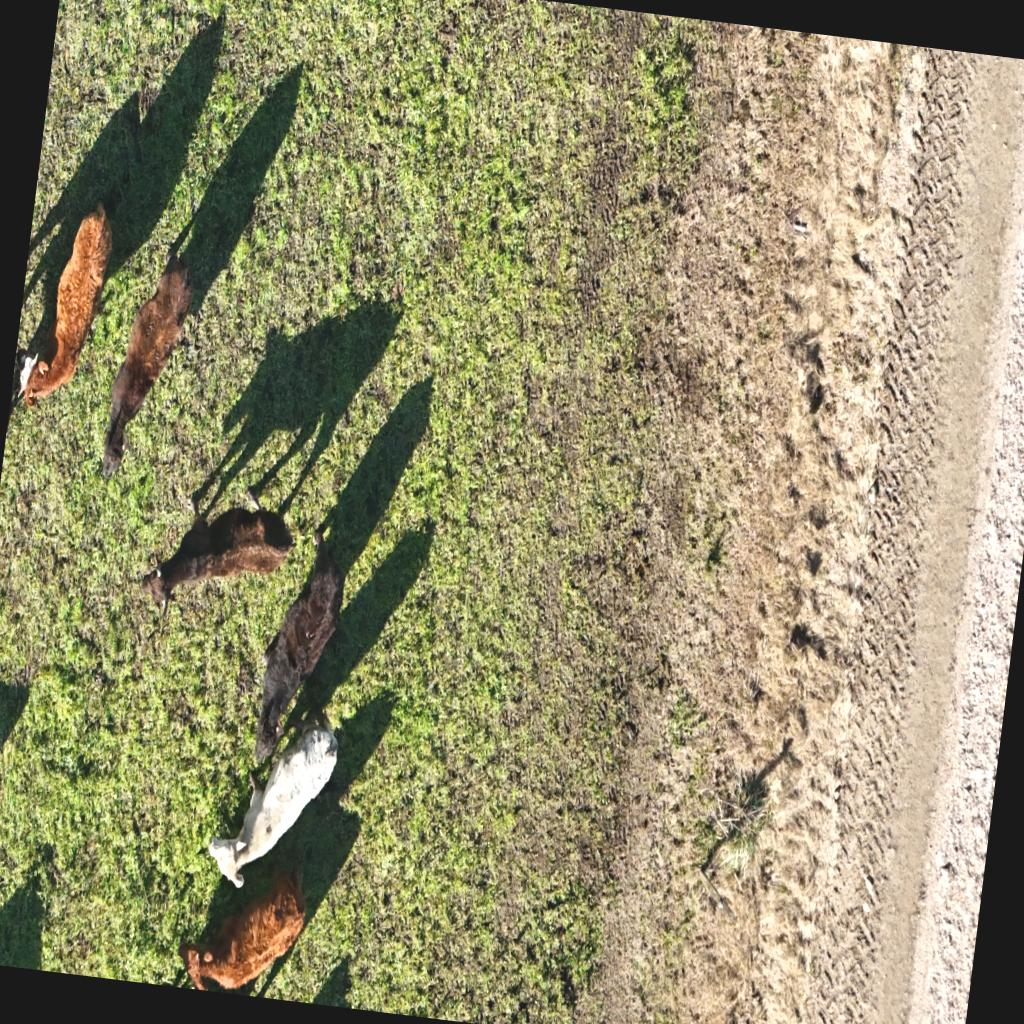cow: (202, 713, 341, 898), (94, 250, 198, 490), (9, 197, 116, 429), (250, 538, 351, 771), (138, 492, 296, 636), (180, 848, 310, 998)
